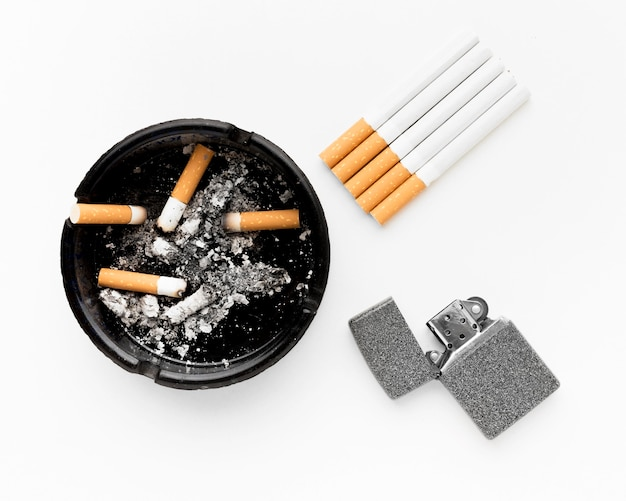cigarette: (356, 66, 518, 214), (343, 53, 506, 199), (369, 82, 533, 227), (331, 41, 497, 183), (318, 28, 482, 168), (157, 139, 212, 234), (97, 267, 189, 298), (68, 202, 146, 227), (225, 206, 303, 230)
